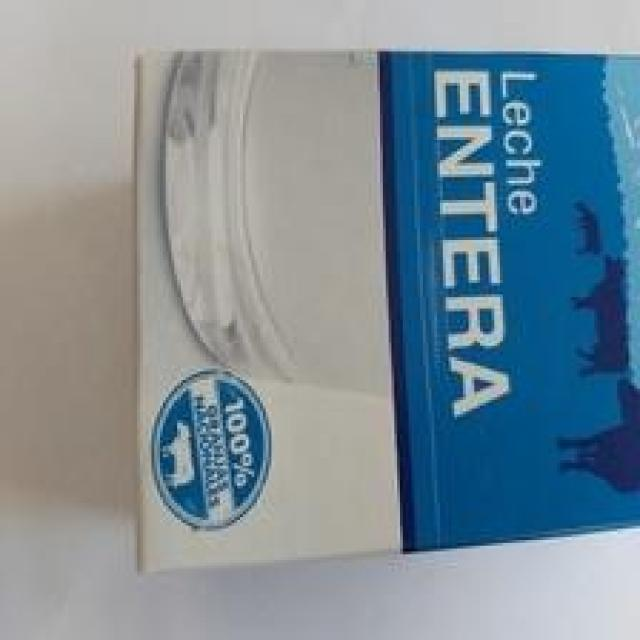Carton: (131, 49, 640, 572)
